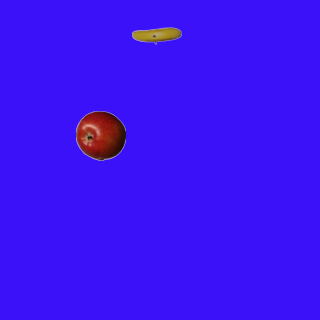Apple Braeburn: (75, 110, 125, 160)
Banana: (131, 10, 181, 60)
